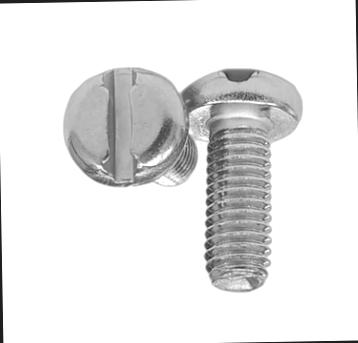slotted: (60, 65, 188, 188)
